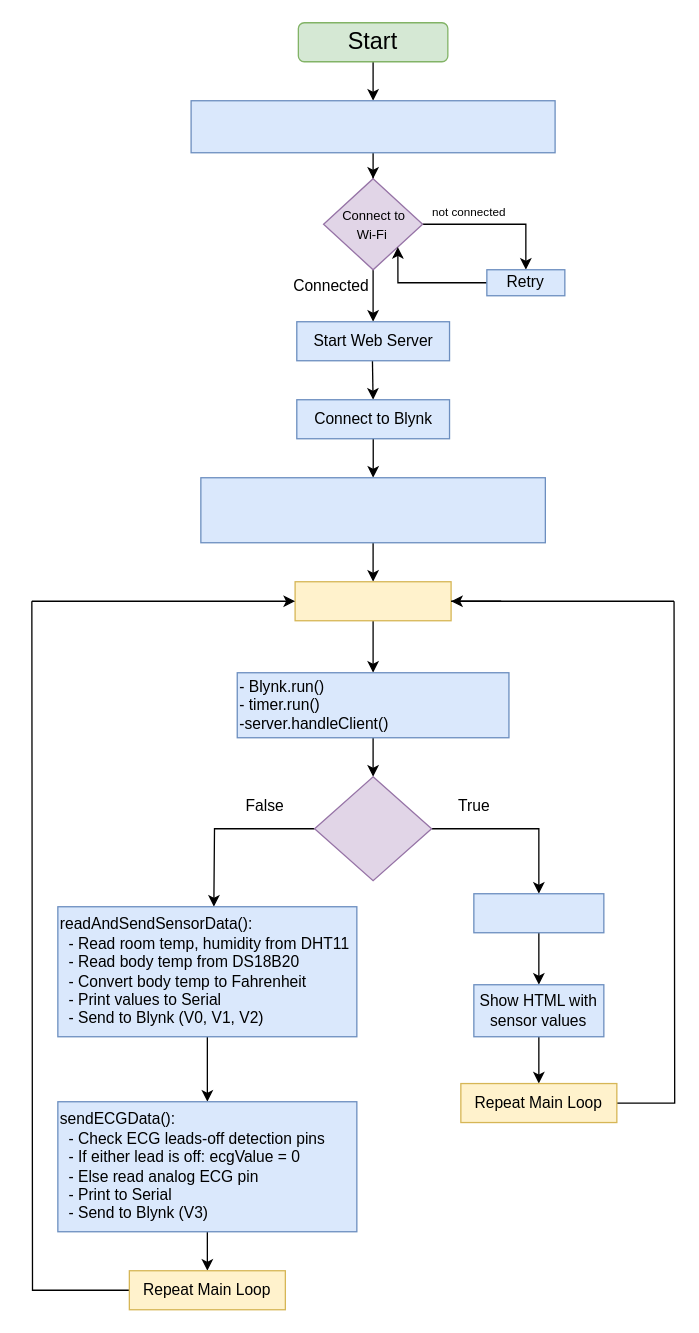
Image size: 699x1333. Some labels were removed from this diagram. Here are the shapes that lost their labels. From the top down, the box of each, then its label:
(190, 99, 555, 153): Initialize Serial, Sensors (DHT, DS18B20), Pins
(200, 476, 545, 543): Set Timer: - every 2 sec: readAndSendSensorData() - every 100 ms: sendECGData()
(294, 580, 451, 621): Enter Main Loop
(313, 775, 432, 881): If HTTP request to "/"
(473, 892, 604, 933): call handleRoot()
